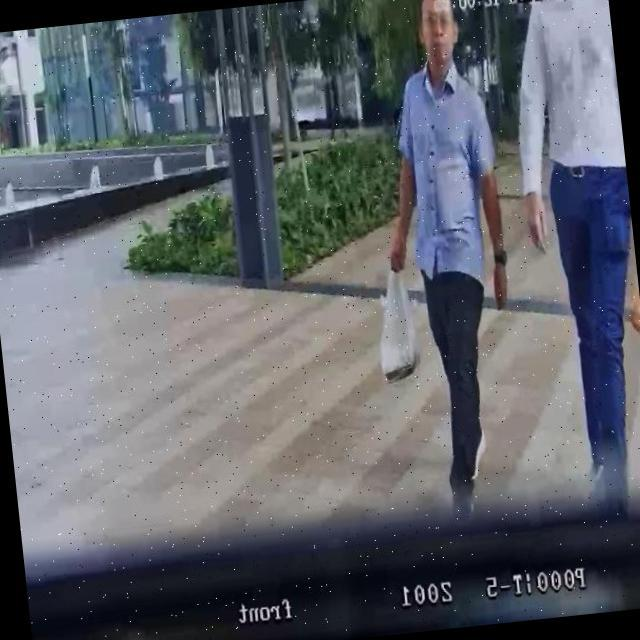person: (360, 0, 533, 513), (499, 0, 640, 515)
